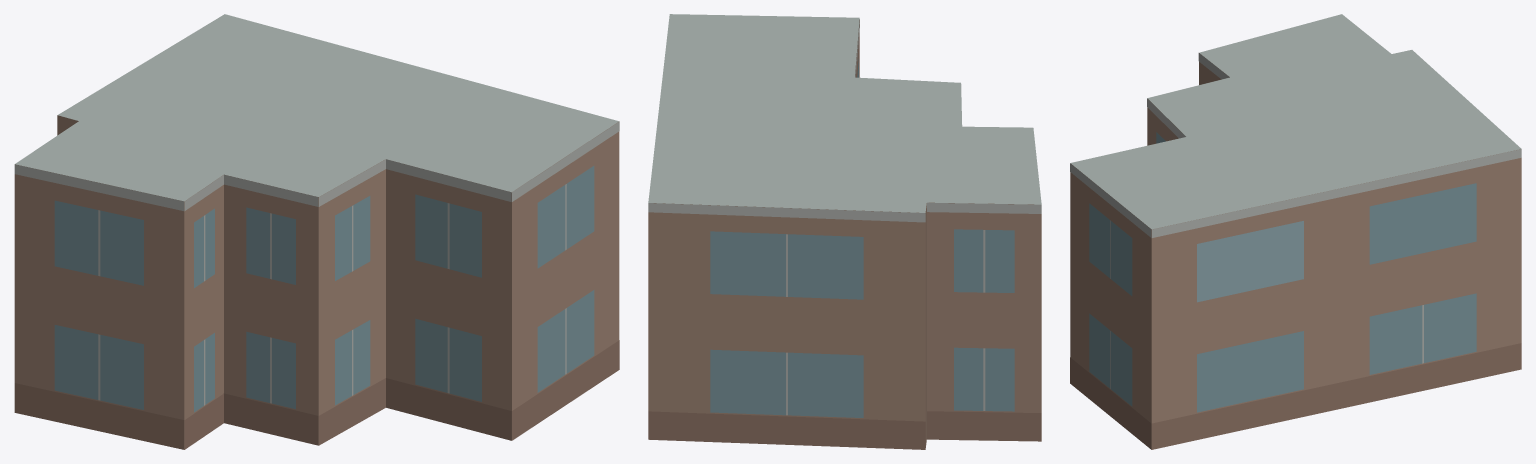
Rendered from survey-upis-32925748.glb.
3 renders of one model, left to right at view 1: azimuth 30°, elevation 25°; view 2: azimuth 150°, elevation 25°; view 3: azimuth 270°, elevation 25°, orthographic. The views are drawn at different scales.
Parts seen in each view (by area): view 1: survey-upis-32925748.tmp; view 2: survey-upis-32925748.tmp; view 3: survey-upis-32925748.tmp.
Boxes of the visible parts, <box> form: survey-upis-32925748.tmp: <box>14,14,619,449</box>; survey-upis-32925748.tmp: <box>648,14,1041,449</box>; survey-upis-32925748.tmp: <box>1070,14,1521,449</box>.
Bounding box in the file's own units: 12.79 × 6.1 × 11.33.
